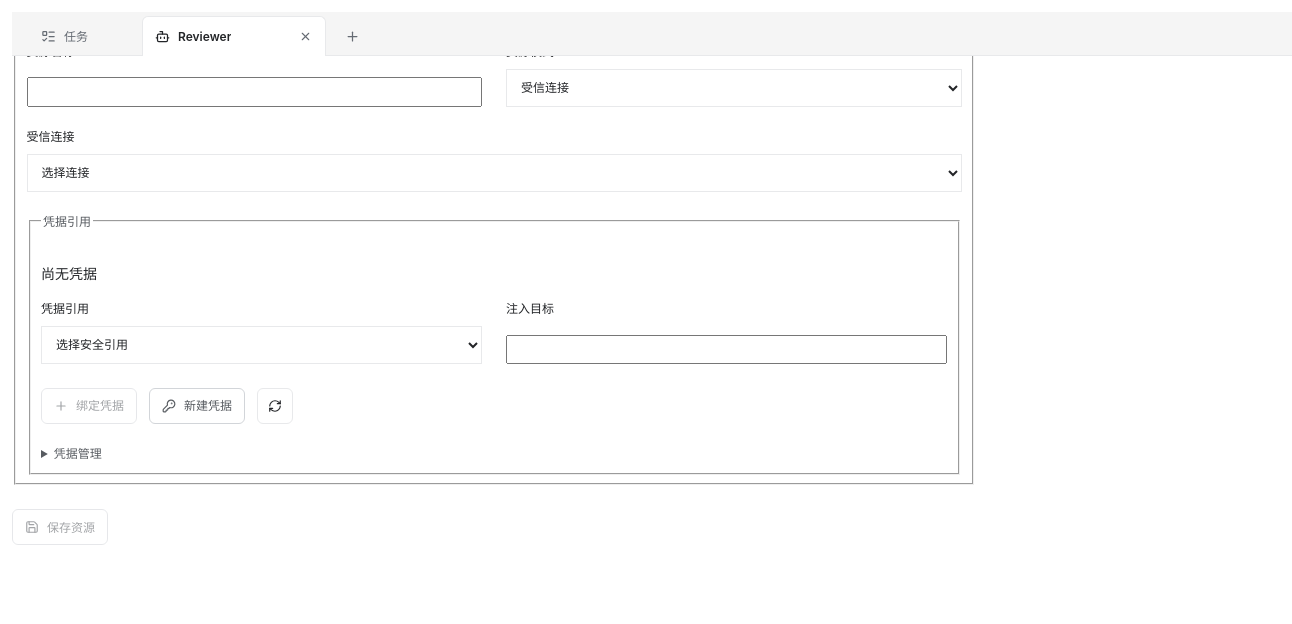
Test: typed independent capability resource edits › saves mcp connection using exact finite settings without fetching the external source
Type "Reviewed resource" into the field labelled "资源名称" at (254, 92), box top-left (26, 77), bottom-right (482, 107)
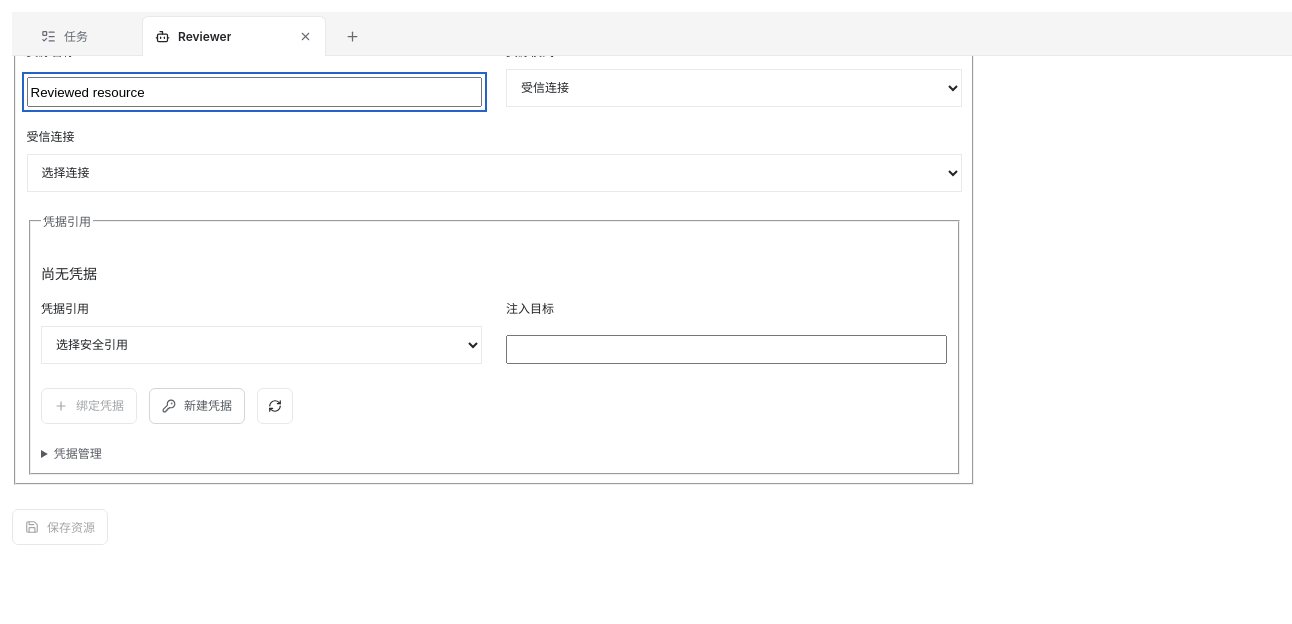
Select "受信连接" in the dropdown labelled "资源模式" at (734, 88), box top-left (506, 69), bottom-right (962, 107)
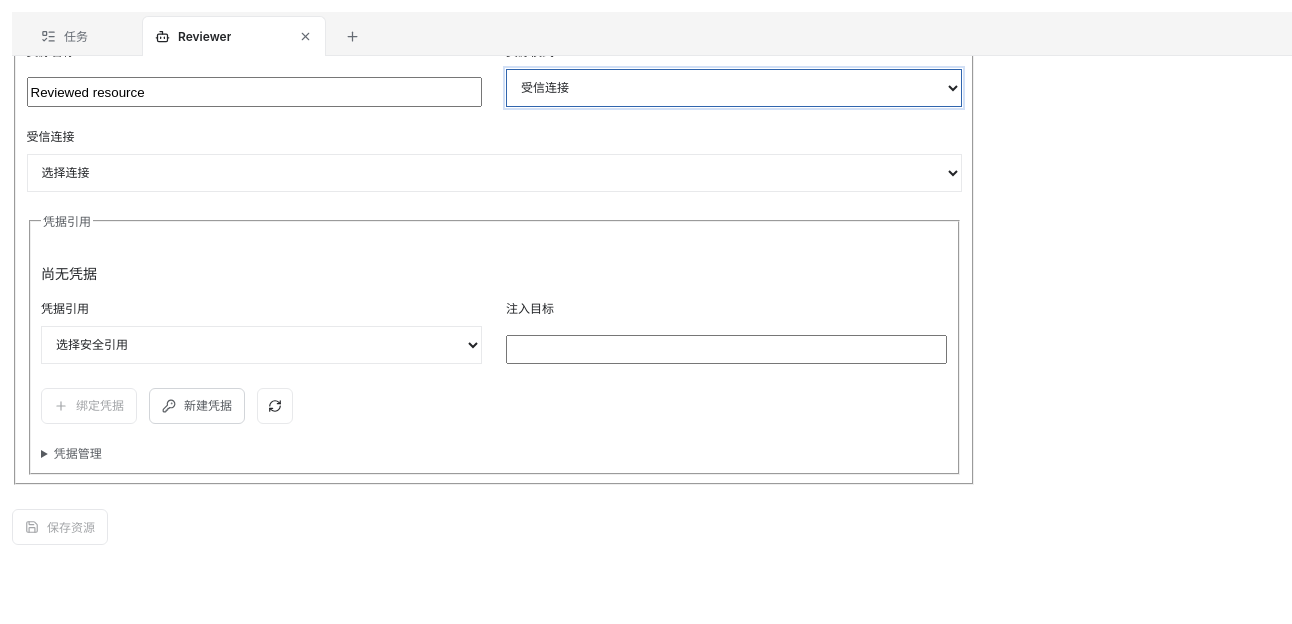
Select "Trusted controlled connection · R1 · configured" in the dropdown labelled "受信连接" at (494, 173), box top-left (26, 154), bottom-right (962, 192)
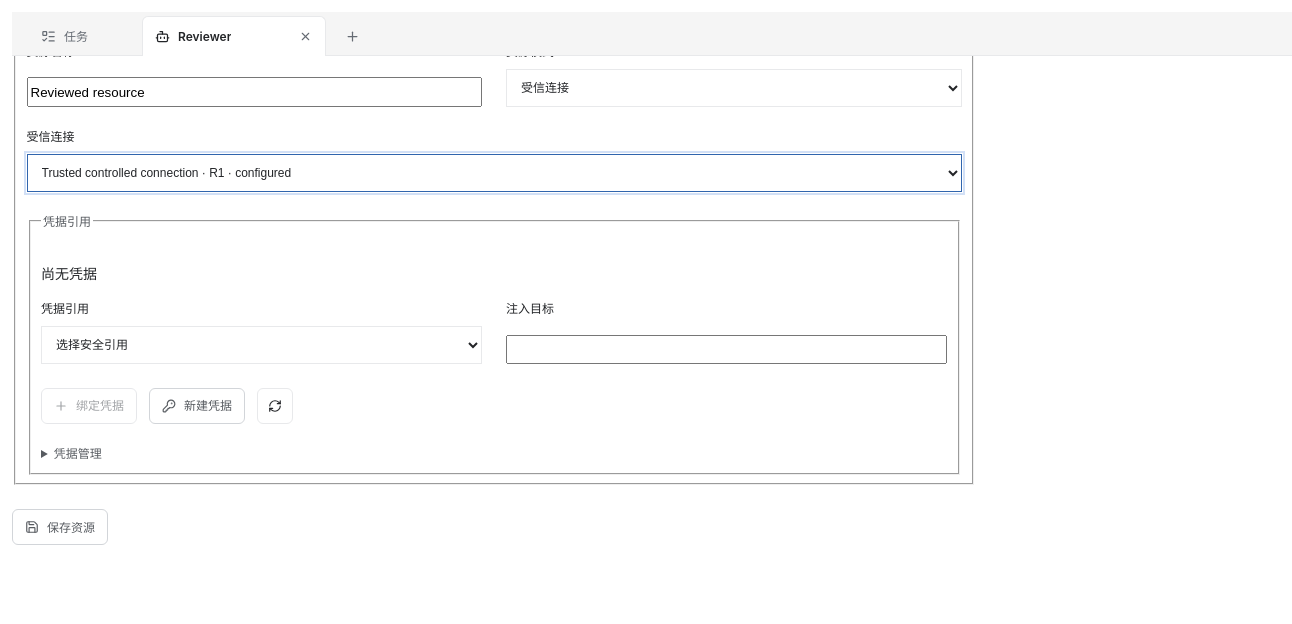
Click the button "保存资源" at (60, 528), box top-left (12, 510), bottom-right (108, 546)
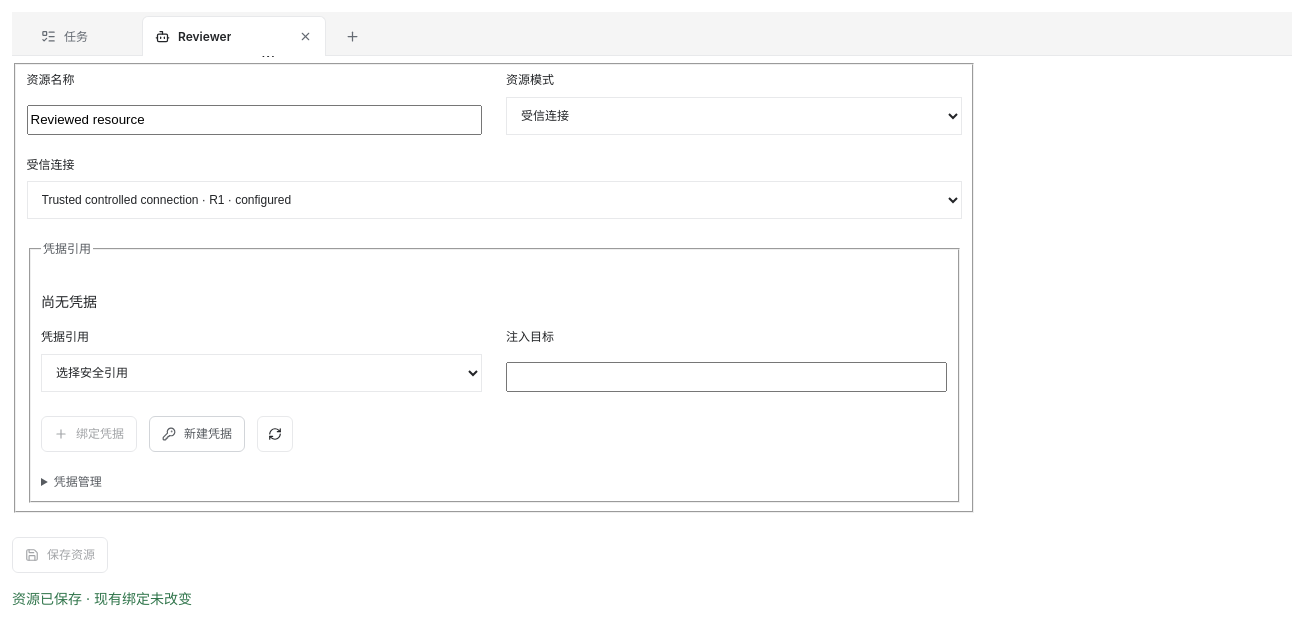
Now the text "资源已保存 · 现有绑定未改变" is shown, box top-left (12, 590), bottom-right (192, 607)
